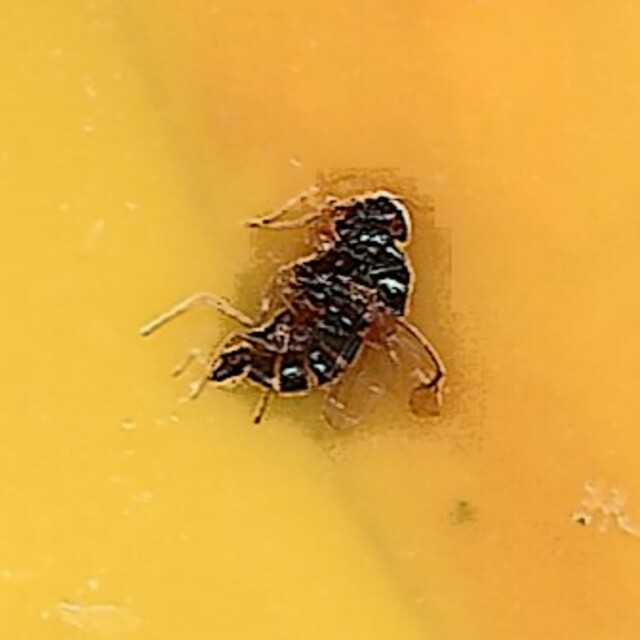Brachycera: (190, 193, 450, 447)
